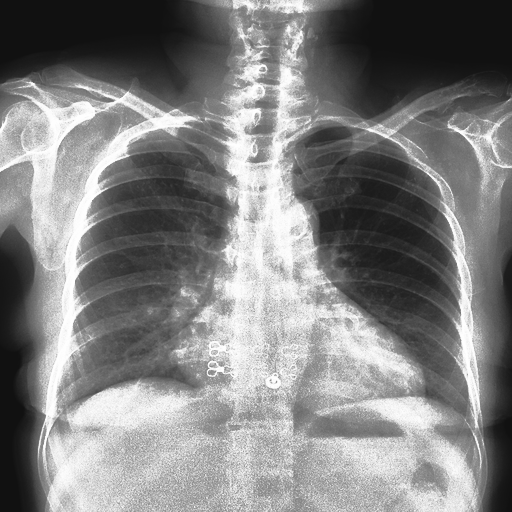Calcification: (39, 393, 74, 448), (457, 404, 490, 456)
Nodule/Mass: (176, 324, 424, 422)
Pleural effusion: (39, 393, 74, 448), (457, 404, 490, 456)
